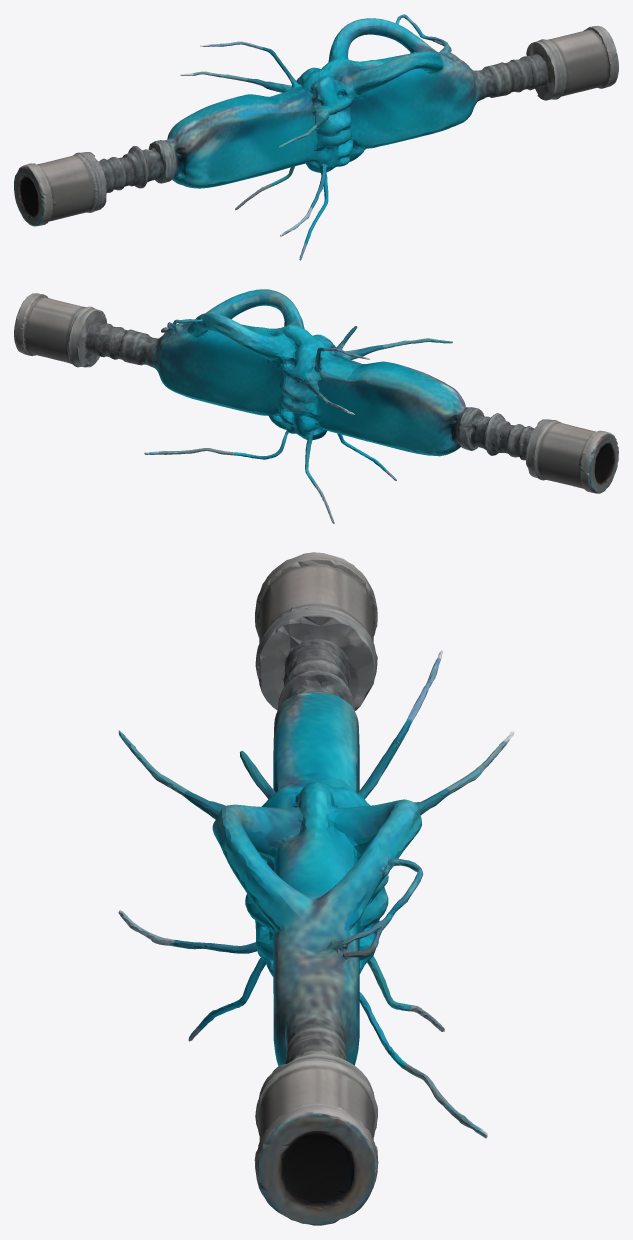
File: chain_whip.glb
3 renders of one model, top to bottom at view 1: azimuth 30°, elevation 25°; view 2: azimuth 150°, elevation 25°; view 3: azimuth 270°, elevation 25°, orthographic. The views are drawn at different scales.
Visible parts, largest first — view 1: chain_whip; view 2: chain_whip; view 3: chain_whip.
Part boxes in pixels (left/top/right/bottom): chain_whip: left=14, top=14, right=618, bottom=260; chain_whip: left=14, top=289, right=618, bottom=523; chain_whip: left=118, top=552, right=514, bottom=1225.
Size of the model in its own units: 1.89 by 0.5579 by 0.5635.
1 material, 1 textured.
